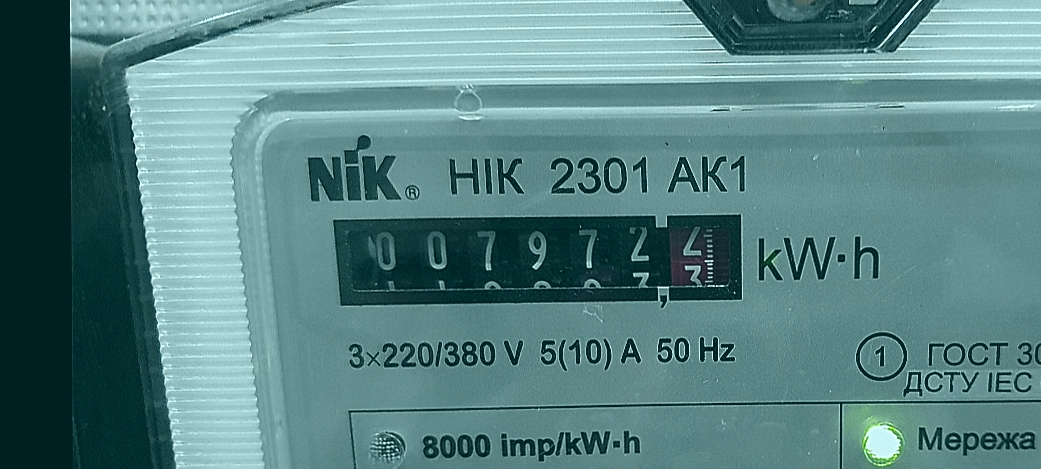0: (426, 227, 451, 270), (375, 229, 401, 270)
2: (630, 224, 653, 262), (681, 224, 704, 258)
3: (683, 261, 705, 287)
7: (577, 225, 603, 271), (476, 227, 501, 272)
9: (527, 227, 549, 270)
screen: (319, 201, 761, 319)
